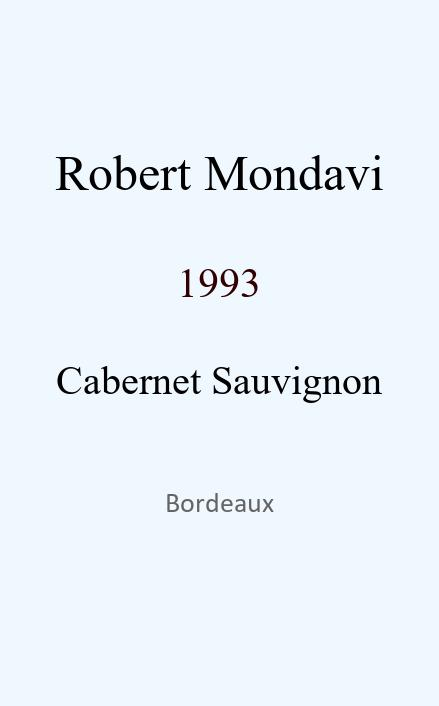brand: (55, 145, 384, 180)
region: (165, 491, 274, 510)
variety: (56, 358, 382, 395)
vintage: (177, 259, 261, 287)
